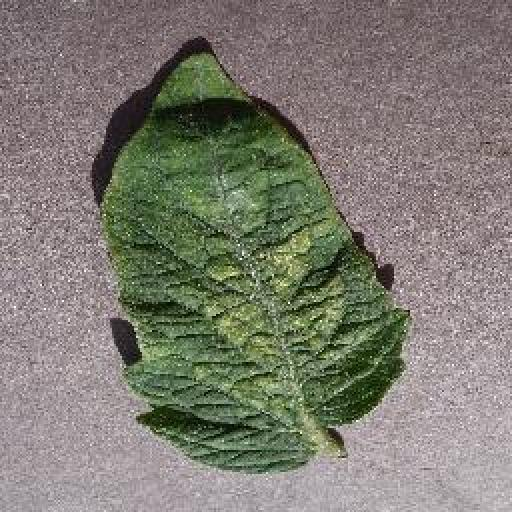Spider Mites: (103, 48, 408, 475)
